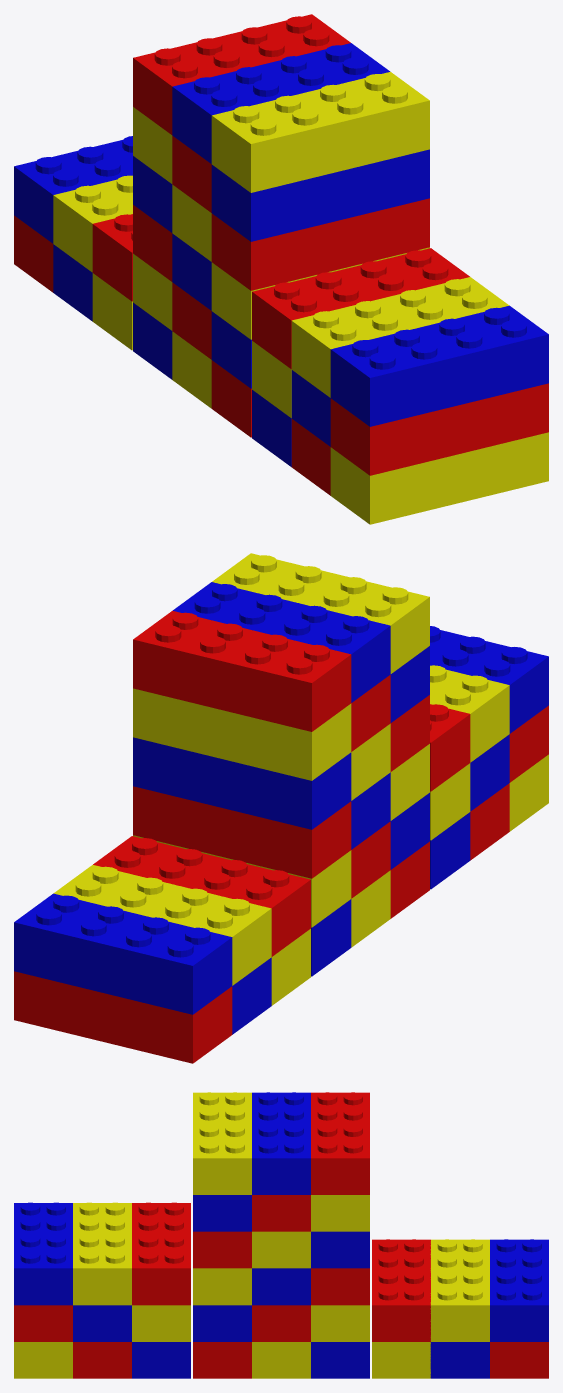
The model's file is podium.fbx.
3 views of the same model, one above another, from view 1: azimuth 30°, elevation 25°; view 2: azimuth 150°, elevation 25°; view 3: azimuth 270°, elevation 25° (orthographic). The views are drawn at different scales.
Parts seen in each view (by area): view 1: polySurface34, polySurface35, polySurface33; view 2: polySurface34, polySurface33, polySurface35; view 3: polySurface34, polySurface35, polySurface33.
Boxes of the visible parts, box(x1,y1,x2,y2) form: polySurface34: box(133, 14, 429, 437); polySurface35: box(252, 248, 548, 524); polySurface33: box(14, 136, 132, 350); polySurface34: box(133, 553, 429, 976); polySurface33: box(14, 836, 310, 1063); polySurface35: box(430, 626, 548, 889); polySurface34: box(193, 1092, 369, 1378); polySurface35: box(14, 1202, 190, 1378); polySurface33: box(372, 1239, 548, 1378).
Size of the model in its own units: 2 by 3.2 by 6.89.
